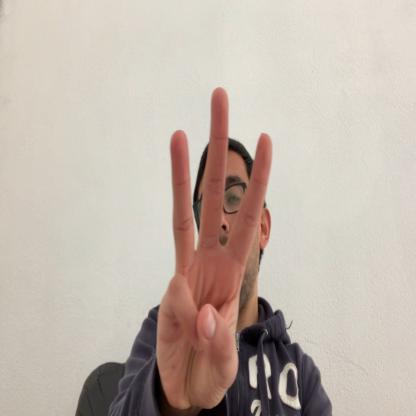W: (159, 85, 272, 405)
